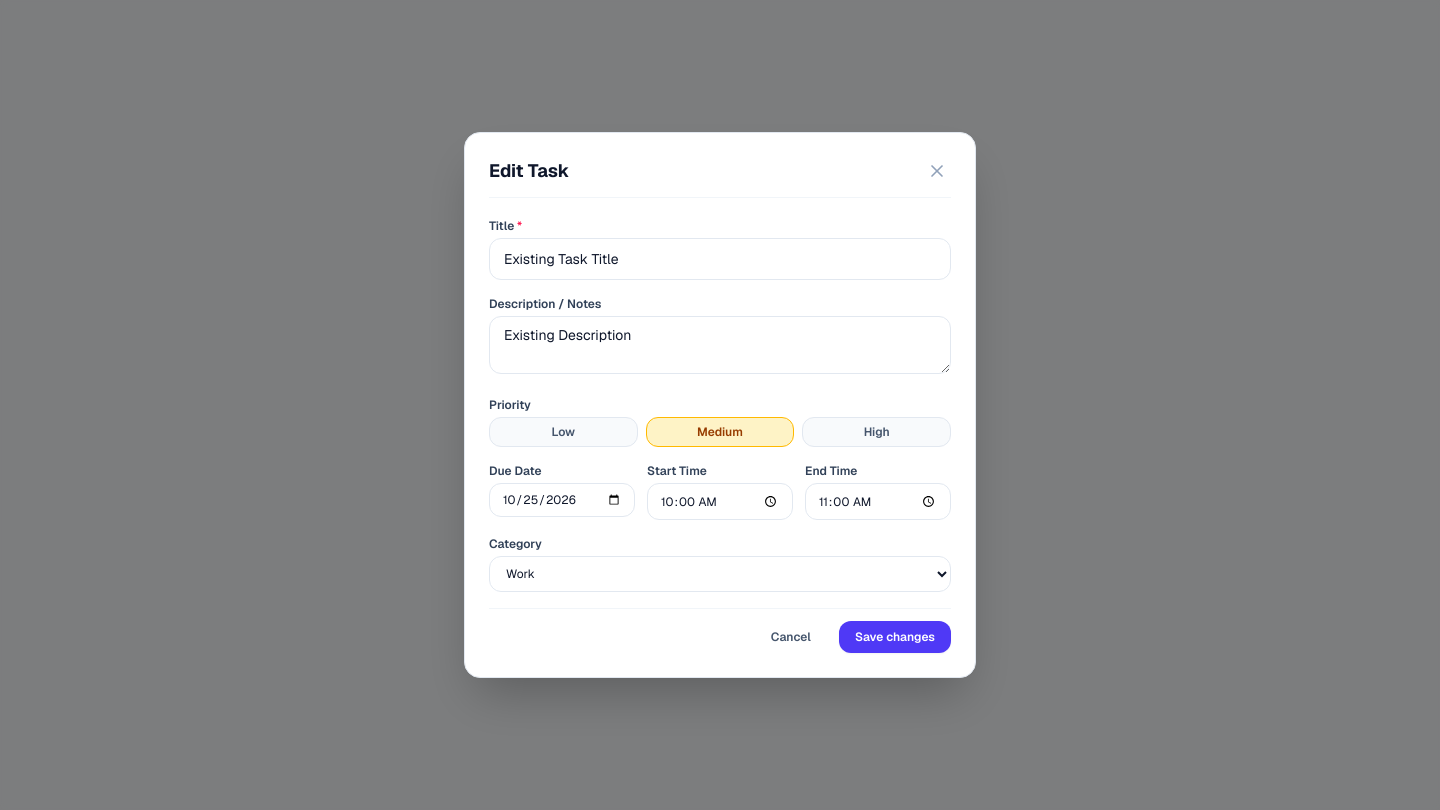
Test case: EditTaskModal component › validates time range and displays error alert when end time is before start time
The width and height of the screenshot is (1440, 810).
Replace the text in the time field named "edit start time" with "15:00": (720, 502) [647,483,793,520]
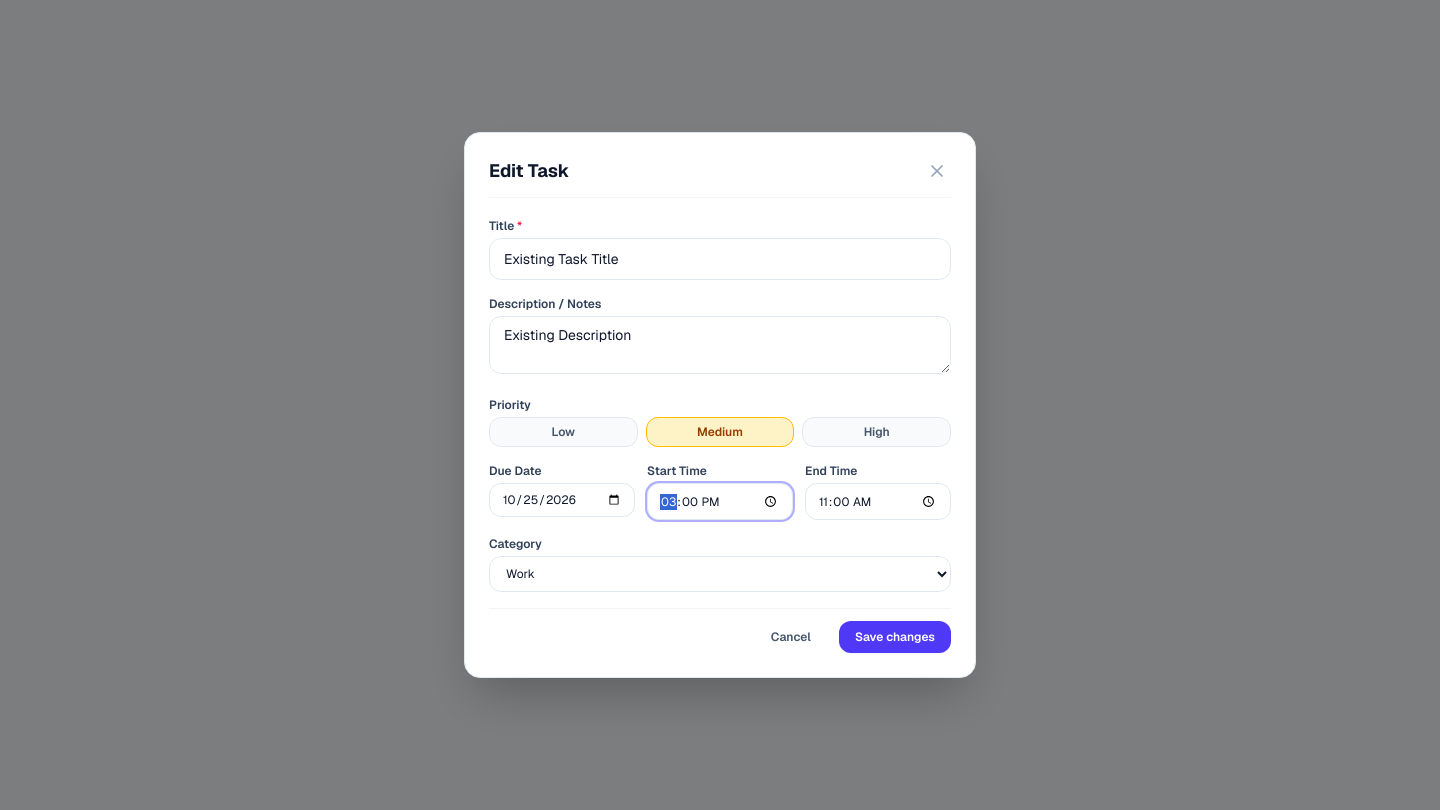
Replace the text in the time field named "edit end time" with "14:00": (878, 502) [805,483,951,520]
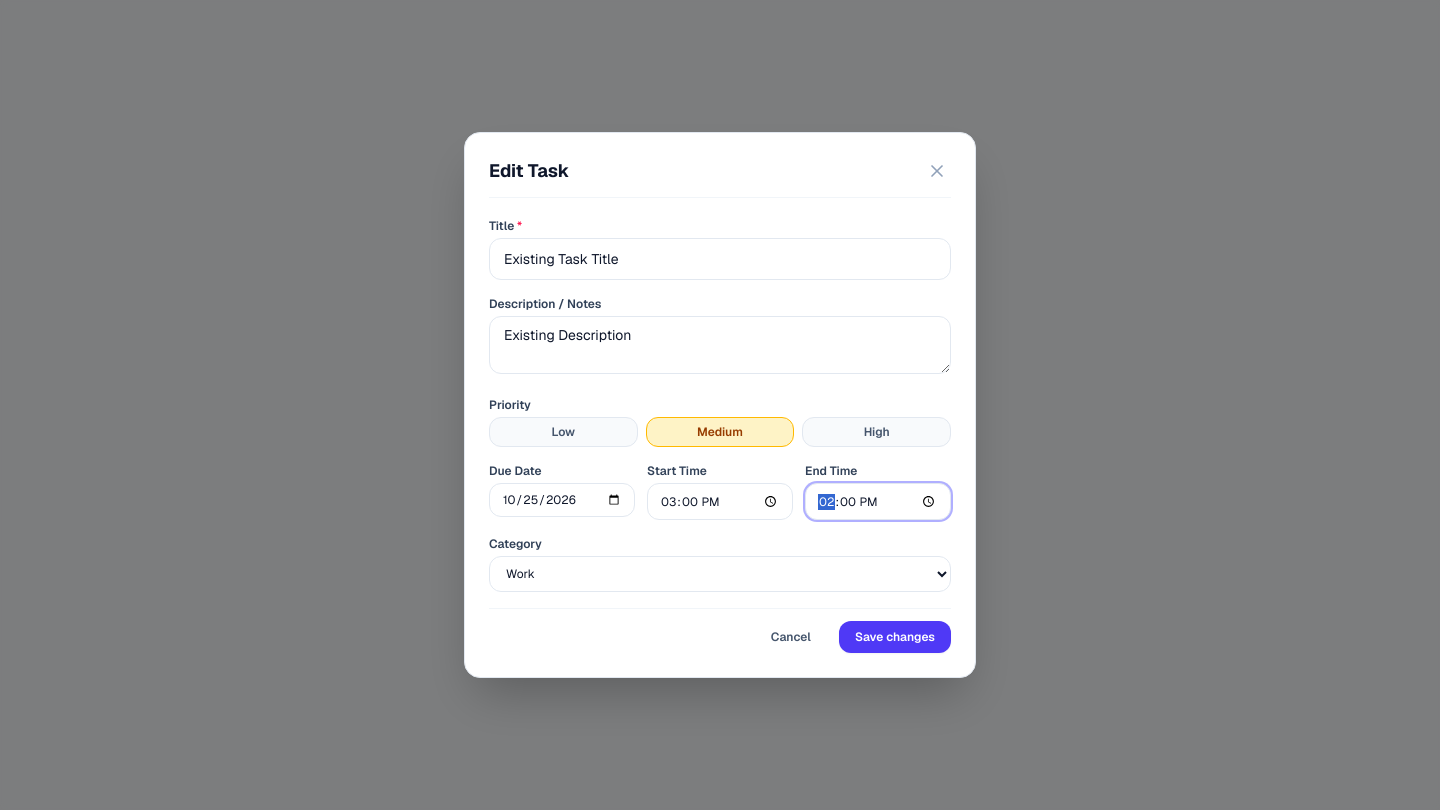
Click the button "Save changes": (895, 637) [839,621,951,653]
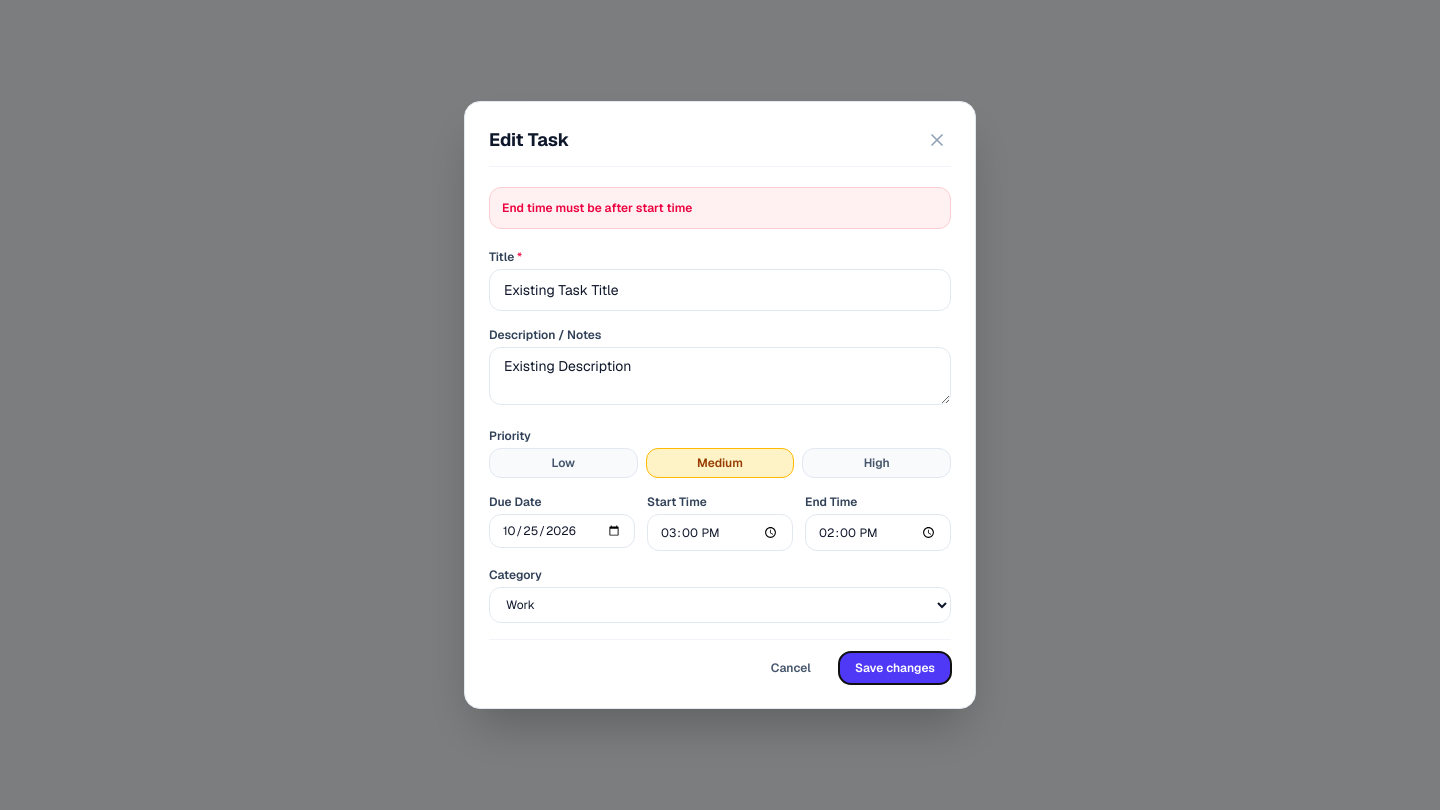
Check: the message reads "End time must be after start time", box [502,200,692,216]
